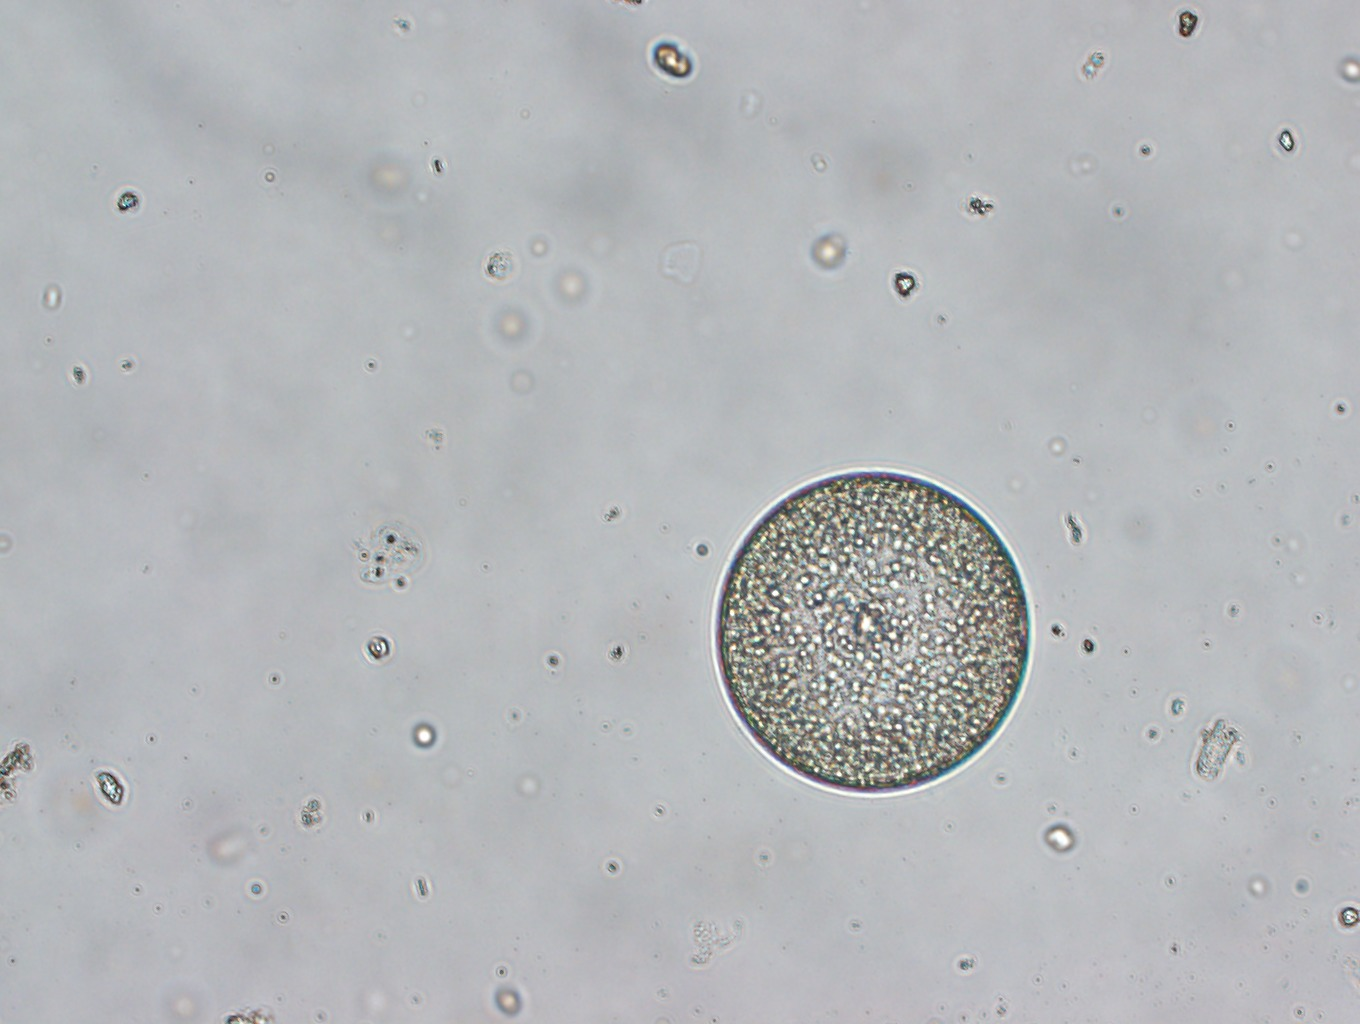coscinodiscus: (707, 464, 1046, 802)
